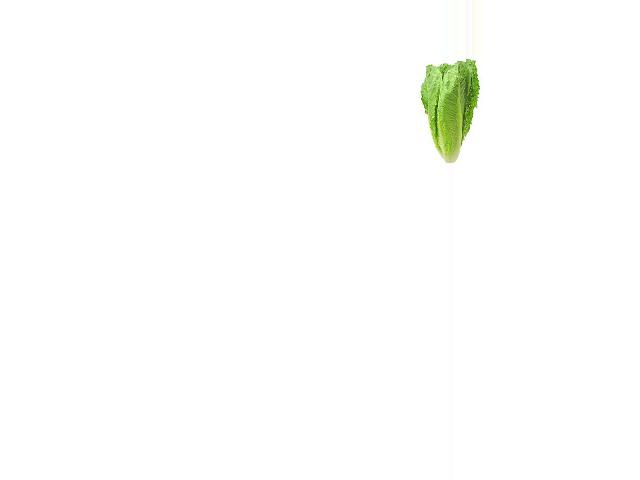lettuce: (413, 59, 482, 162)
